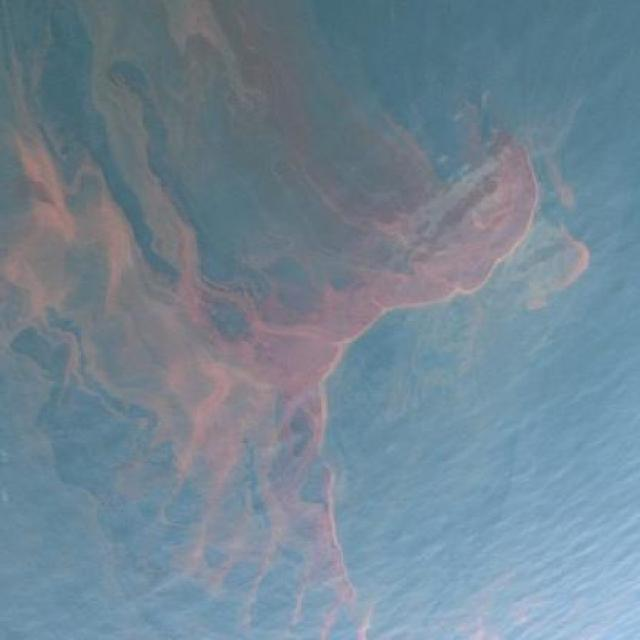oil: (2, 1, 592, 640)
